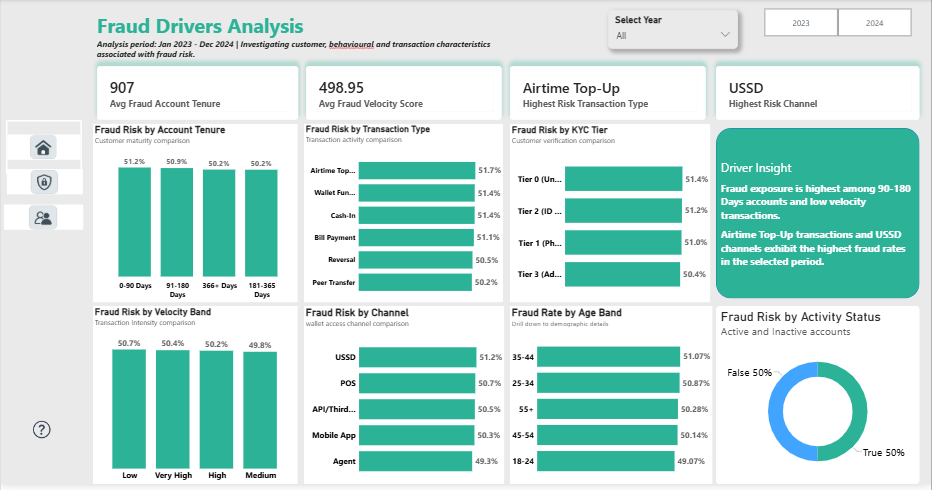

What the dashboard file says about the page in this screenshot:
{"tool":"powerbi","page":{"name":"Fraud Drivers","canvas":[2500,1304],"ordinal":2},"visuals":[{"type":"image","box":[14.8,325,203.5,146.5],"z":0},{"type":"image","box":[14.8,428.8,204.1,121.3],"z":1000},{"type":"textbox","box":[251.4,29.6,1026.2,150.8],"z":2000},{"type":"image","box":[8.9,520.5,212.9,130.1],"z":3000},{"type":"cardVisual","fields":{"Data":["Measure Table.Avg Fraud Account Tenure (Days)"]},"box":[257.3,180.4,541.2,144.9],"z":4000},{"type":"image","box":[65.7,1124.9,89.8,67.6],"z":5000},{"type":"slicer","fields":{"Values":["dim_date_updated.year"]},"box":[1632.5,29.6,349,103.5],"z":6000},{"type":"slicer","fields":{"Values":["dim_date_updated.year"]},"box":[2025.8,5.9,443.6,100.6],"z":7000},{"type":"clusteredColumnChart","title":"Fraud Risk by Account Tenure","fields":{"Category":["dim_worker.Tenure Band"],"Y":["Measure Table.Fraud Risk (%)"]},"box":[248.4,337.1,550.1,479.1],"z":8000},{"type":"clusteredBarChart","title":"Fraud Risk by Transaction Type","fields":{"Category":["fact_transactions_Updated_.transaction_type"],"Y":["Measure Table.Fraud Risk (%)"]},"box":[813.3,337.1,535.3,479.1],"z":9000},{"type":"cardVisual","fields":{"Data":["Measure Table.Avg Fraud Velocity Score"]},"box":[819.2,180.4,526.4,144.9],"z":10000},{"type":"cardVisual","fields":{"Data":["Measure Table.Highest Risk Transaction Type"]},"box":[1369.3,180.4,526.4,144.9],"z":11000},{"type":"cardVisual","fields":{"Data":["Measure Table.Highest Risk Channel"]},"box":[1922.3,180.4,547.1,144.9],"z":12000},{"type":"clusteredBarChart","title":"Fraud Risk by KYC Tier","fields":{"Category":["dim_worker.kyc_tier"],"Y":["Measure Table.Fraud Risk (%)"]},"box":[1369.3,337.1,538.3,479.1],"z":13000},{"type":"clusteredColumnChart","title":"Fraud Risk by Velocity Band","fields":{"Y":["Measure Table.Fraud Risk (%)"],"Category":["fact_transactions_Updated_.Velocity Band"]},"box":[248.4,825.1,550.1,479.1],"z":14000},{"type":"clusteredBarChart","title":"Fraud Risk by Channel","fields":{"Category":["dim_channel.channel_type"],"Y":["Measure Table.Fraud Risk (%)"]},"box":[813.3,825.1,538.3,479.1],"z":15000},{"type":"clusteredBarChart","title":"Fraud Rate by Age Band","fields":{"Category":["dim_worker.age_band"],"Y":["Measure Table.Fraud Rate (%)"]},"box":[1369.3,825.1,544.2,479.1],"z":16000},{"type":"donutChart","title":"Fraud Risk by Activity Status","fields":{"Category":["dim_worker.is_active"],"Y":["Measure Table.Fraud Risk (%)"]},"box":[1922.3,825.1,547.1,479.1],"z":17000},{"type":"shape","box":[1922.3,346,547.1,458.4],"z":18000},{"type":"textbox","box":[1931.2,372.6,520.5,408.1],"z":19000}]}

Visuals, with their boxes on the page's 2500x1304 design canvas (x1, y1, x2, y2). These are canvas units, not pixel positions in the 932x490 screenshot, which may show the page scaled, cropped or inside an application window:
image: rect(15, 325, 218, 472)
image: rect(15, 429, 219, 550)
textbox: rect(251, 30, 1278, 180)
image: rect(9, 520, 222, 651)
cardVisual - Measure Table.Avg Fraud Account Tenure (Days): rect(257, 180, 798, 325)
image: rect(66, 1125, 156, 1192)
slicer - dim_date_updated.year: rect(1632, 30, 1982, 133)
slicer - dim_date_updated.year: rect(2026, 6, 2469, 106)
"Fraud Risk by Account Tenure" clusteredColumnChart: rect(248, 337, 798, 816)
"Fraud Risk by Transaction Type" clusteredBarChart: rect(813, 337, 1349, 816)
cardVisual - Measure Table.Avg Fraud Velocity Score: rect(819, 180, 1346, 325)
cardVisual - Measure Table.Highest Risk Transaction Type: rect(1369, 180, 1896, 325)
cardVisual - Measure Table.Highest Risk Channel: rect(1922, 180, 2469, 325)
"Fraud Risk by KYC Tier" clusteredBarChart: rect(1369, 337, 1908, 816)
"Fraud Risk by Velocity Band" clusteredColumnChart: rect(248, 825, 798, 1304)
"Fraud Risk by Channel" clusteredBarChart: rect(813, 825, 1352, 1304)
"Fraud Rate by Age Band" clusteredBarChart: rect(1369, 825, 1914, 1304)
"Fraud Risk by Activity Status" donutChart: rect(1922, 825, 2469, 1304)
shape: rect(1922, 346, 2469, 804)
textbox: rect(1931, 373, 2452, 781)
